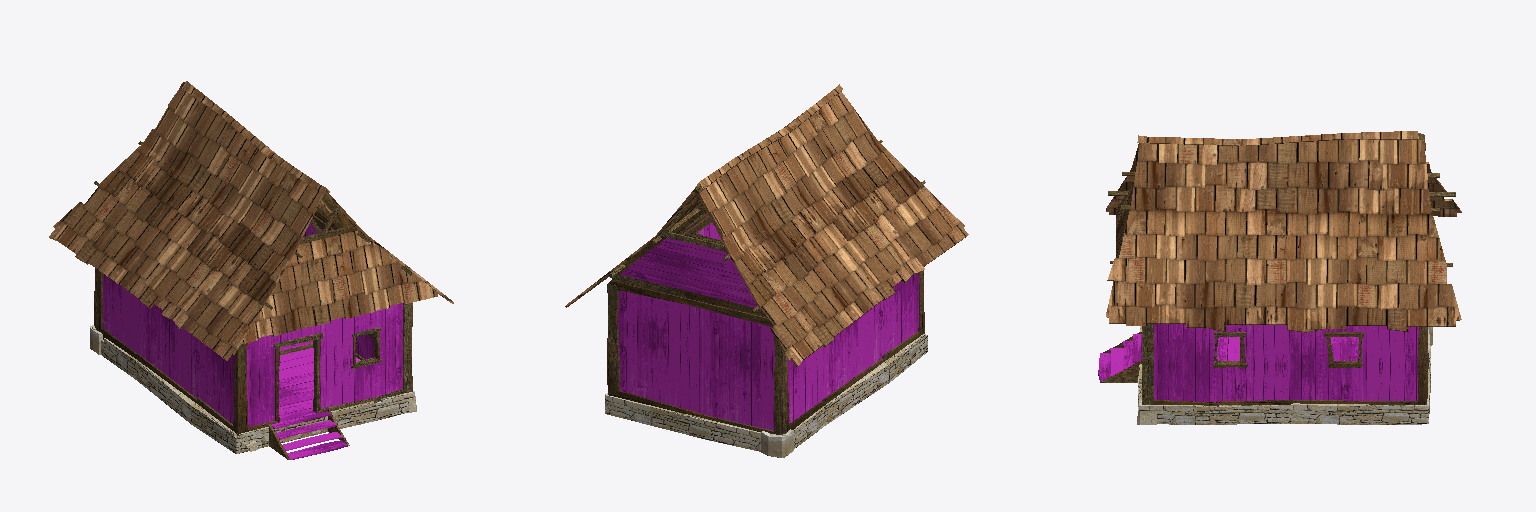
3 renders of one model, left to right at view 1: azimuth 30°, elevation 25°; view 2: azimuth 150°, elevation 25°; view 3: azimuth 270°, elevation 25°, orthographic.
Visible parts, largest first — view 1: WoodenCabinObj:Mesh; view 2: WoodenCabinObj:Mesh; view 3: WoodenCabinObj:Mesh.
Part boxes in pixels (bbox=[...]): WoodenCabinObj:Mesh: bbox=[49, 81, 453, 459]; WoodenCabinObj:Mesh: bbox=[565, 84, 968, 457]; WoodenCabinObj:Mesh: bbox=[1098, 131, 1461, 424].
Bounding box in the file's own units: 66.63 × 66.72 × 87.92.
1 materials, 1 textured.